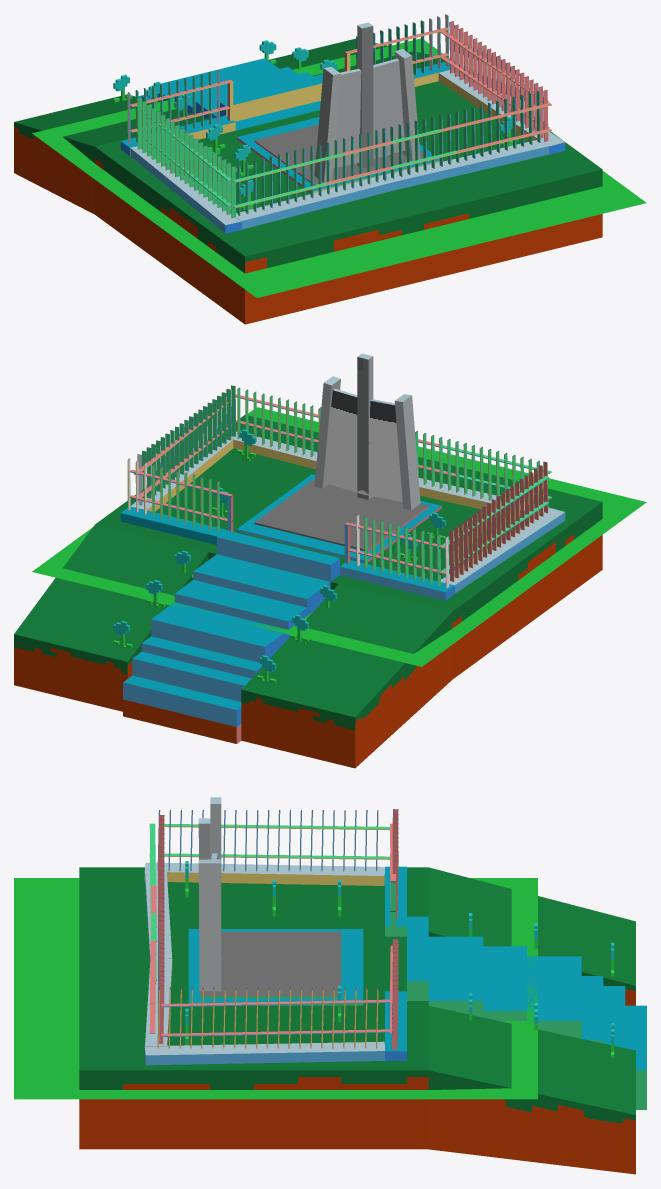
The model's file is tencommandments.gltf.
3 views of the same model, one above another, from view 1: azimuth 30°, elevation 25°; view 2: azimuth 150°, elevation 25°; view 3: azimuth 270°, elevation 25° (orthographic). The views are drawn at different scales.
Visible parts, largest first — view 1: cuboid (×3), cube (×23), plane; view 2: cuboid (×3), cube (×22), plane; view 3: cuboid (×3), cube (×23), plane.
Boxes of the visible parts, x1,y1,x2,y2 form: cuboid (×3): (14, 38, 602, 324); cube (×23): (120, 22, 565, 233); plane: (32, 38, 646, 297); cuboid (×3): (14, 415, 602, 768); cube (×22): (120, 353, 565, 743); plane: (32, 407, 646, 666); cuboid (×3): (79, 867, 635, 1174); cube (×23): (144, 800, 646, 1089); plane: (14, 878, 537, 1099).
Bounding box in the file's own units: 3 × 1.75 × 3.62.
5 materials, 5 textured.
